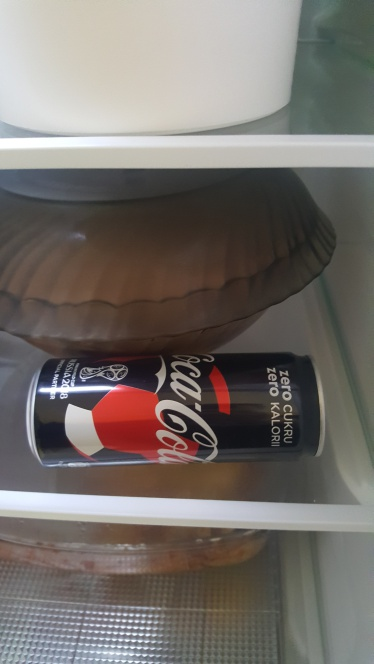colazero: (13, 346, 352, 471)
